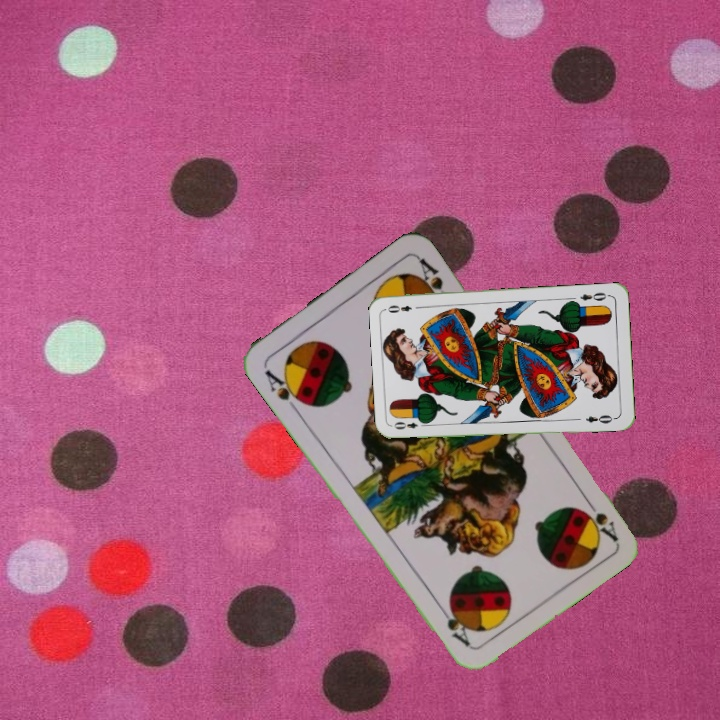EO: (390, 417, 430, 432), (576, 288, 612, 303)
SA: (260, 365, 309, 415), (579, 492, 620, 544)
